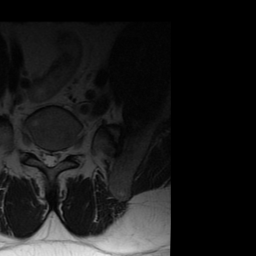CCS_normal: (47, 140, 54, 174)
LFS_normal: (62, 137, 71, 165)
LLS_normal: (54, 141, 62, 173)
RFS_normal: (32, 136, 40, 166)
RLS_normal: (40, 140, 47, 169)
